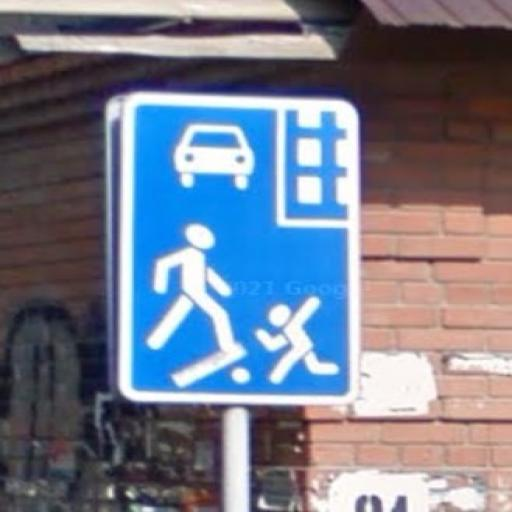traffic_sign: (121, 94, 365, 409)
